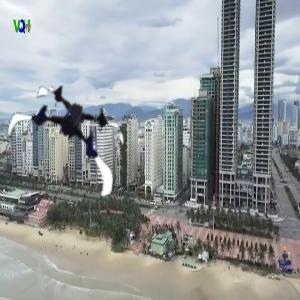drone: (6, 71, 129, 194)
